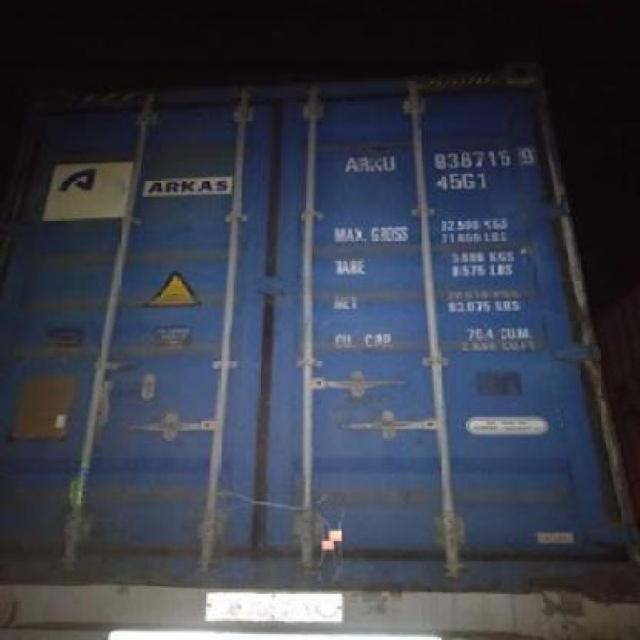ISO: (434, 172, 487, 190)
container_number: (350, 145, 536, 170)
